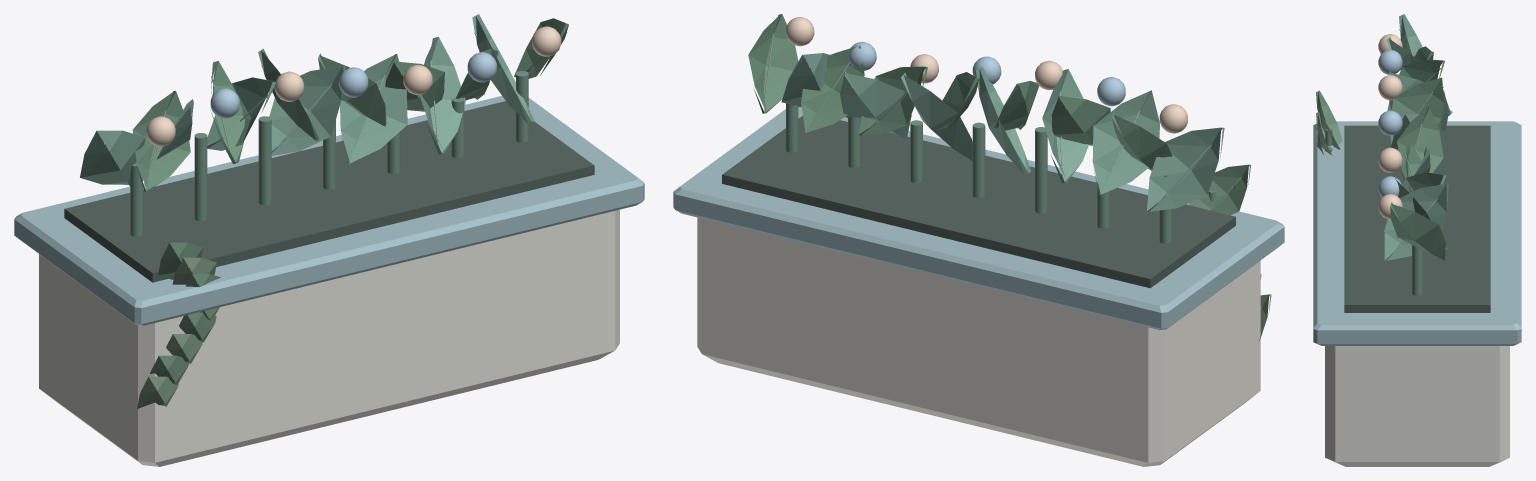
File: v18_street_flower_trough.glb
3 renders of one model, left to right at view 1: azimuth 30°, elevation 25°; view 2: azimuth 150°, elevation 25°; view 3: azimuth 270°, elevation 25°, orthographic. The views are drawn at different scales.
Parts seen in each view (by area): view 1: _MeshInstance3D_4365, _MeshInstance3D_4367, _MeshInstance3D_4366, _MeshInstance3D_4387, _MeshInstance3D_4393, _MeshInstance3D_4369, _MeshInstance3D_4371, _MeshInstance3D_4399, _MeshInstance3D_4381, _MeshInstance3D_4405, _MeshInstance3D_4377, _MeshInstance3D_4395 (+22 smaller); view 2: _MeshInstance3D_4365, _MeshInstance3D_4367, _MeshInstance3D_4366, _MeshInstance3D_4369, _MeshInstance3D_4375, _MeshInstance3D_4407, _MeshInstance3D_4401, _MeshInstance3D_4399, _MeshInstance3D_4393, _MeshInstance3D_4377, _MeshInstance3D_4381, _MeshInstance3D_4395 (+15 smaller); view 3: _MeshInstance3D_4365, _MeshInstance3D_4367, _MeshInstance3D_4366, _MeshInstance3D_4405, _MeshInstance3D_4407, _MeshInstance3D_4389, _MeshInstance3D_4383, _MeshInstance3D_4377, _MeshInstance3D_4412, _MeshInstance3D_4399, _MeshInstance3D_4369, _MeshInstance3D_4404 (+14 smaller).
Boxes of the visible parts, bbox=[...] form: _MeshInstance3D_4365: bbox=[39, 209, 619, 466]; _MeshInstance3D_4367: bbox=[64, 101, 594, 282]; _MeshInstance3D_4366: bbox=[14, 96, 644, 325]; _MeshInstance3D_4387: bbox=[269, 66, 345, 155]; _MeshInstance3D_4393: bbox=[340, 54, 407, 163]; _MeshInstance3D_4369: bbox=[80, 130, 145, 186]; _MeshInstance3D_4371: bbox=[132, 91, 190, 191]; _MeshInstance3D_4399: bbox=[419, 36, 465, 154]; _MeshInstance3D_4381: bbox=[207, 77, 275, 150]; _MeshInstance3D_4405: bbox=[472, 14, 534, 123]; _MeshInstance3D_4377: bbox=[211, 61, 244, 164]; _MeshInstance3D_4395: bbox=[385, 60, 444, 111]; _MeshInstance3D_4365: bbox=[697, 217, 1260, 466]; _MeshInstance3D_4367: bbox=[722, 116, 1235, 288]; _MeshInstance3D_4366: bbox=[673, 107, 1284, 330]; _MeshInstance3D_4369: bbox=[1146, 127, 1224, 211]; _MeshInstance3D_4375: bbox=[1092, 90, 1159, 194]; _MeshInstance3D_4407: bbox=[748, 14, 798, 113]; _MeshInstance3D_4401: bbox=[801, 45, 864, 132]; _MeshInstance3D_4399: bbox=[840, 71, 911, 139]; _MeshInstance3D_4393: bbox=[901, 73, 972, 160]; _MeshInstance3D_4377: bbox=[1051, 94, 1110, 145]; _MeshInstance3D_4381: bbox=[1042, 69, 1088, 182]; _MeshInstance3D_4395: bbox=[858, 66, 927, 135]; _MeshInstance3D_4365: bbox=[1325, 346, 1509, 466]; _MeshInstance3D_4367: bbox=[1344, 125, 1490, 312]; _MeshInstance3D_4366: bbox=[1313, 121, 1521, 345]; _MeshInstance3D_4405: bbox=[1384, 183, 1448, 260]; _MeshInstance3D_4407: bbox=[1390, 202, 1445, 260]; _MeshInstance3D_4389: bbox=[1397, 107, 1443, 180]; _MeshInstance3D_4383: bbox=[1390, 77, 1444, 144]; _MeshInstance3D_4377: bbox=[1387, 60, 1444, 110]; _MeshInstance3D_4412: bbox=[1316, 90, 1342, 149]; _MeshInstance3D_4399: bbox=[1384, 172, 1445, 232]; _MeshInstance3D_4369: bbox=[1399, 14, 1422, 56]; _MeshInstance3D_4404: bbox=[1412, 245, 1422, 295].
Bounding box in the file's own units: 1.55 × 0.9578 × 0.6578.
